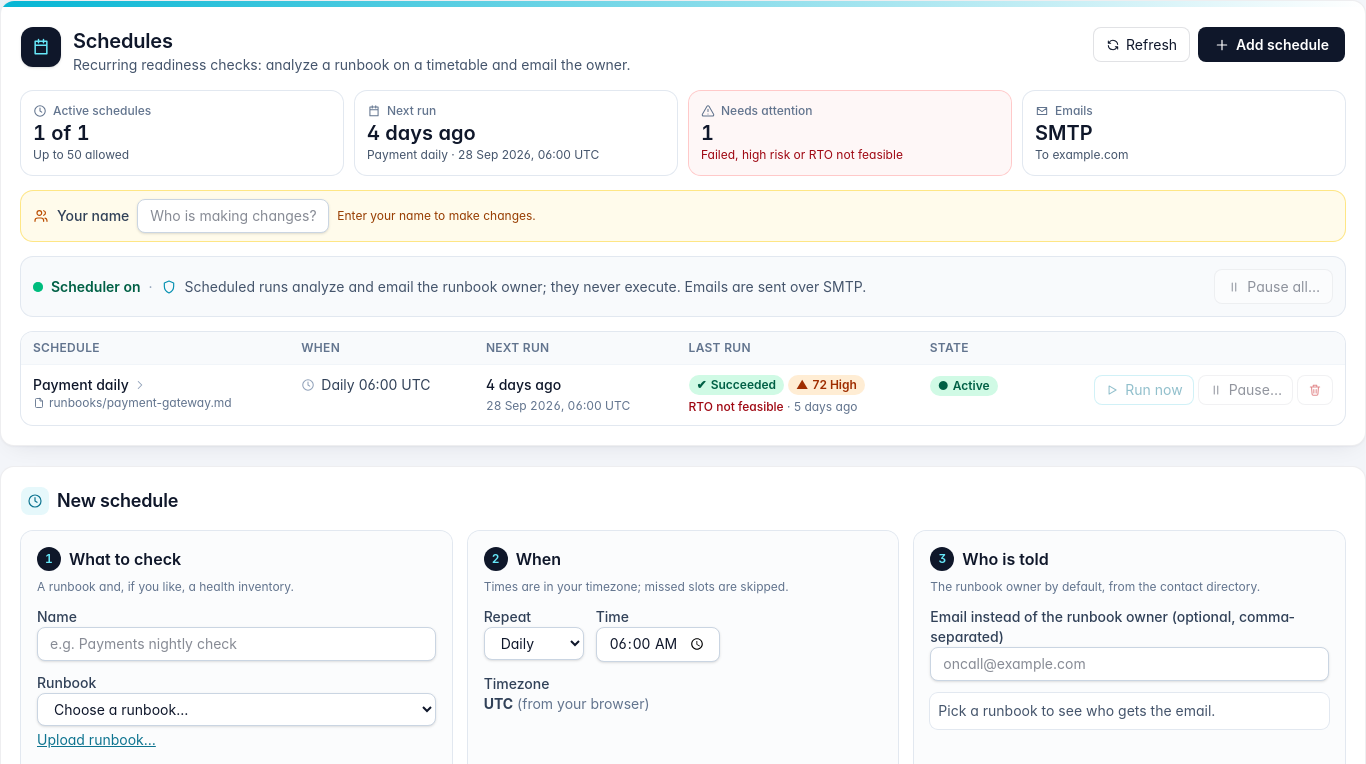
it: SchedulesView › cancels a running run
This screenshot has width=1366, height=764.
Type "Bob" into the field labelled "Your name" at (233, 216), box [137,199,329,233]
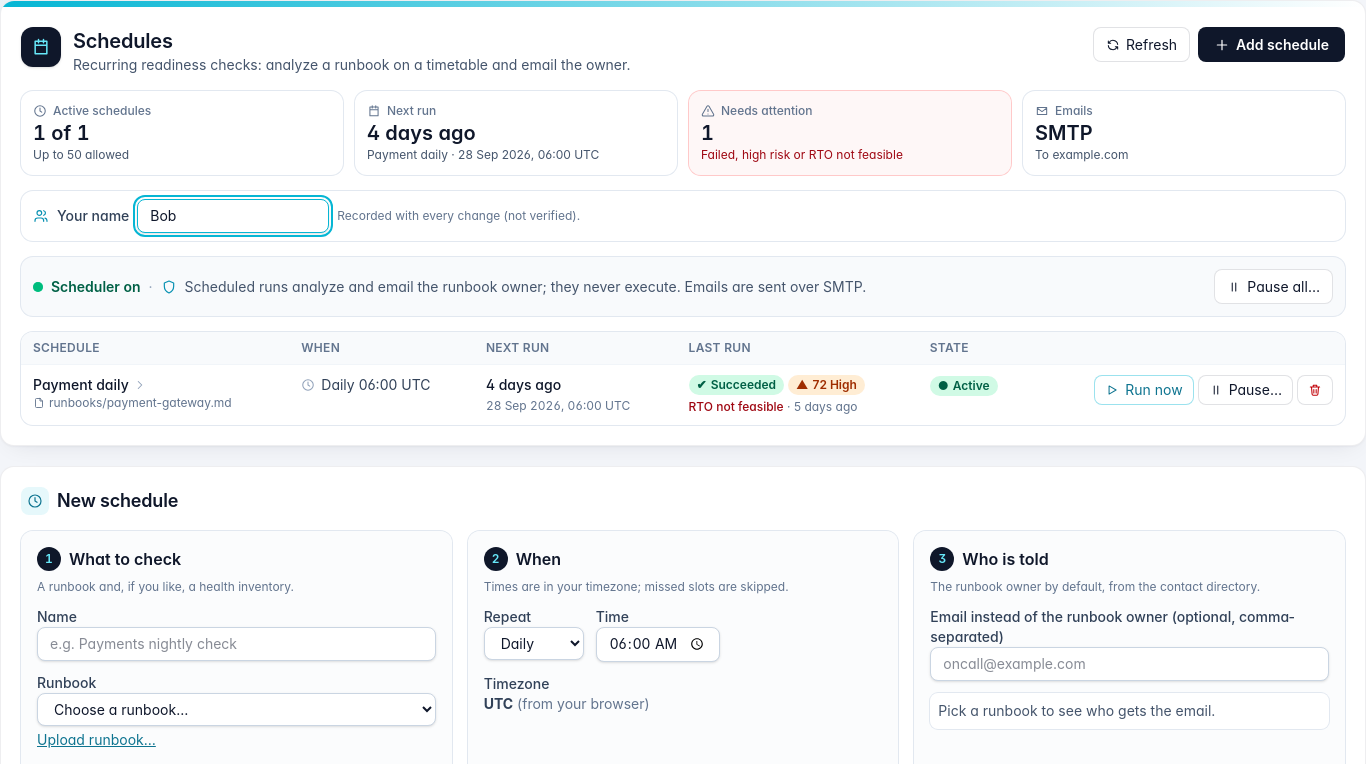
Click the button "Payment daily" at (90, 385), box [33,375,147,395]
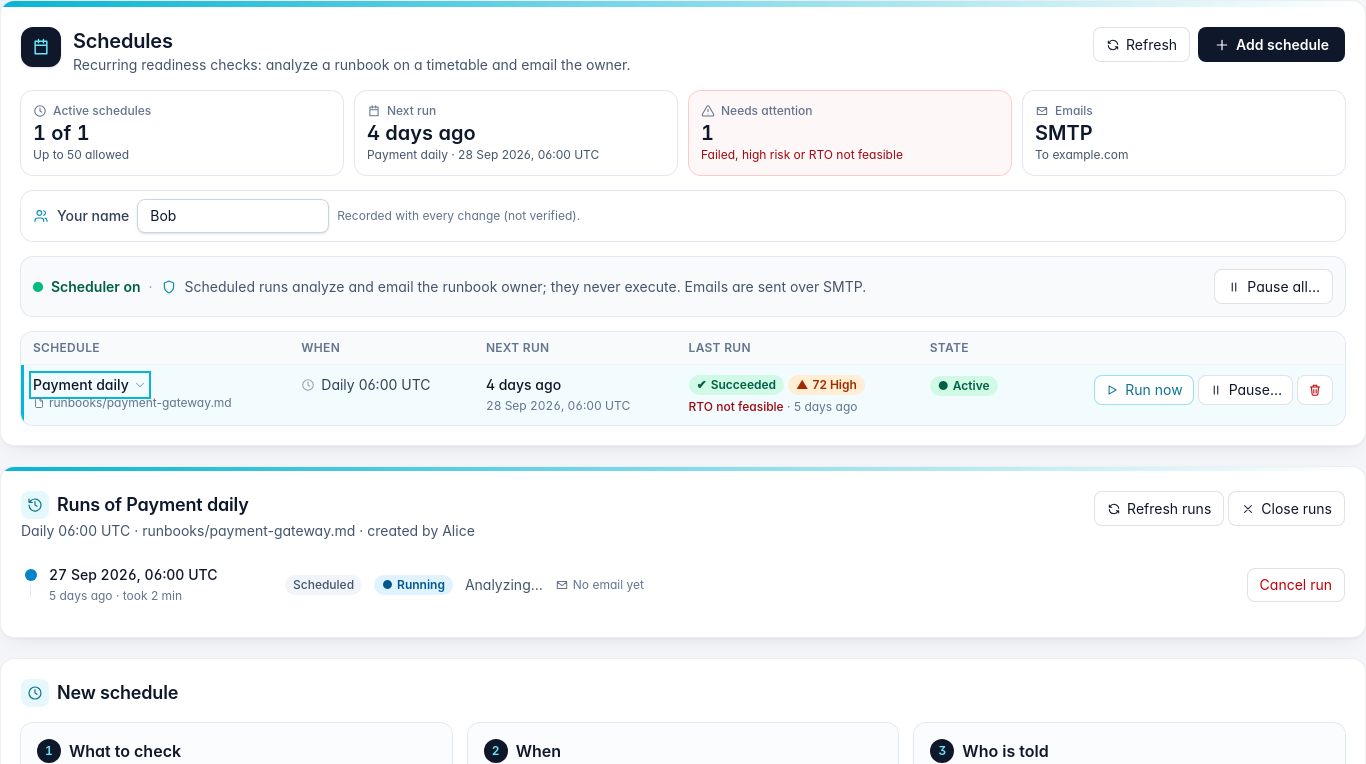
Check: the text "Analyzing…" is shown, box [465,575,543,595]
Click the button "Cancel run" at (1296, 585), box [1247,568,1345,602]
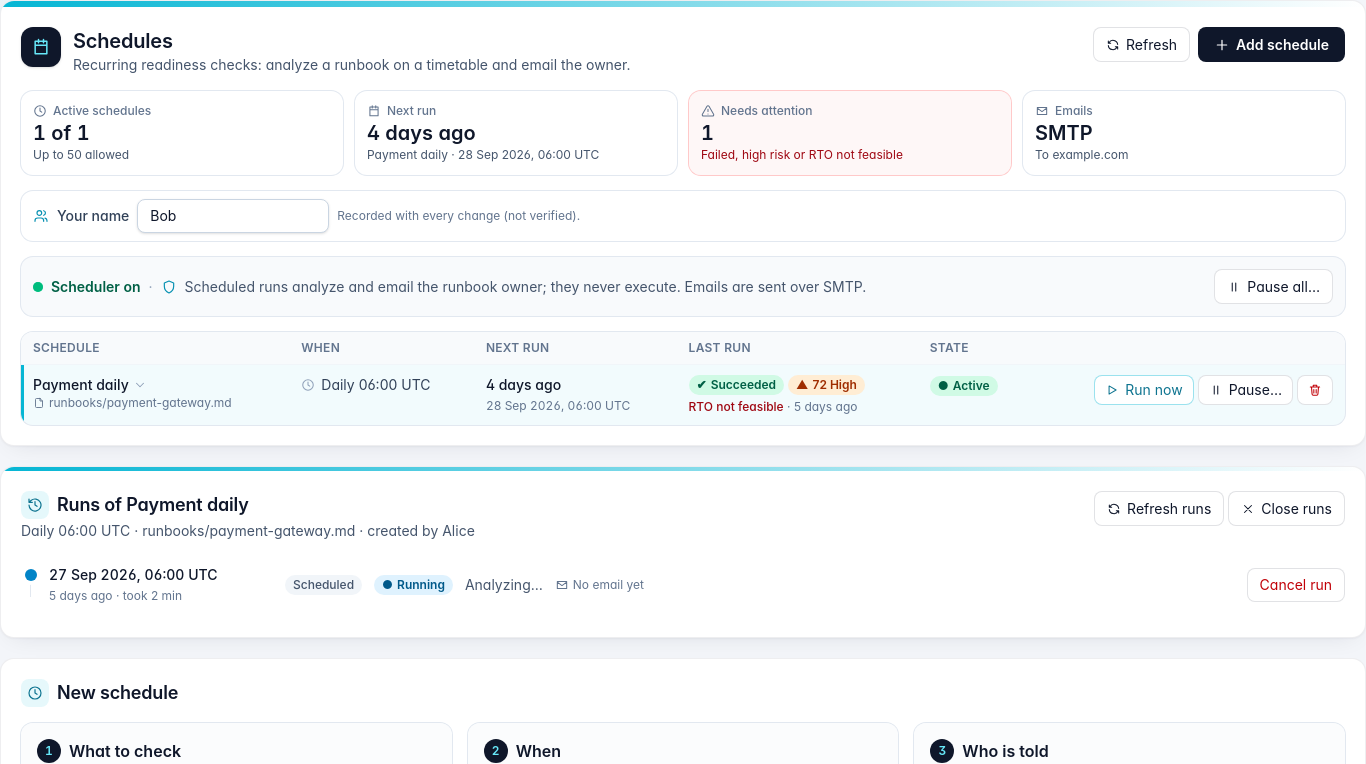
Check: the text "Scheduled" is shown, box [285,575,362,595]
Click the button "Close runs" at (1287, 508), box [1228,491,1345,526]
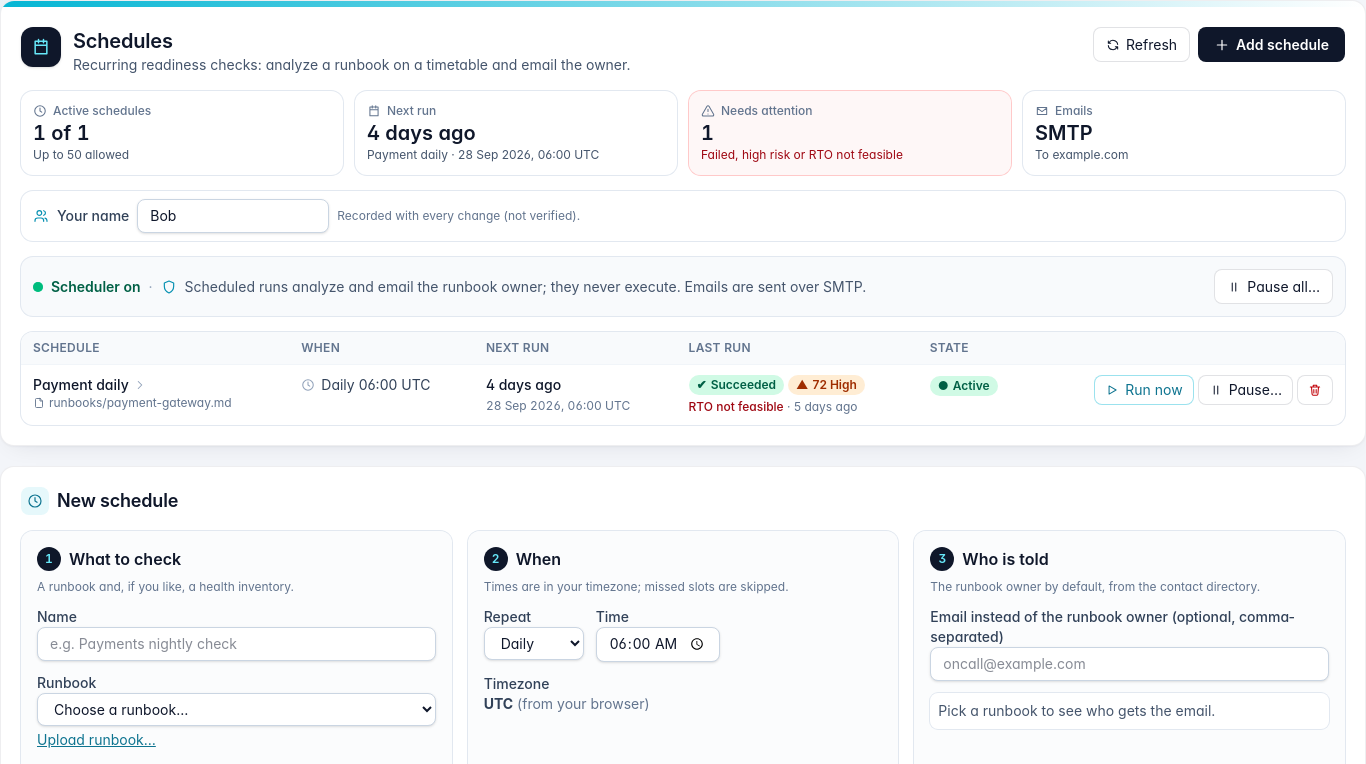
Check: the heading "Runs of Payment daily" is gone
